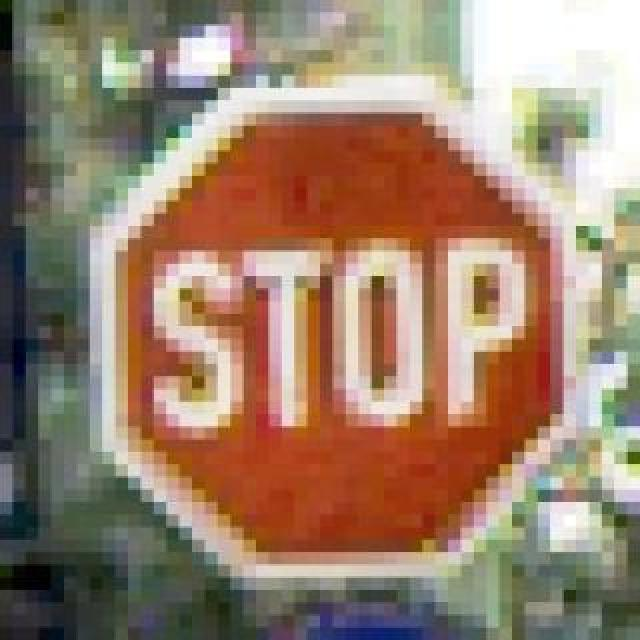stop: (76, 64, 576, 578)
